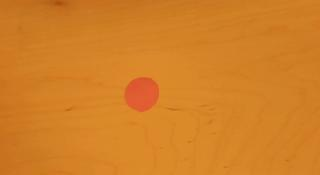Circle: (122, 77, 160, 113)
